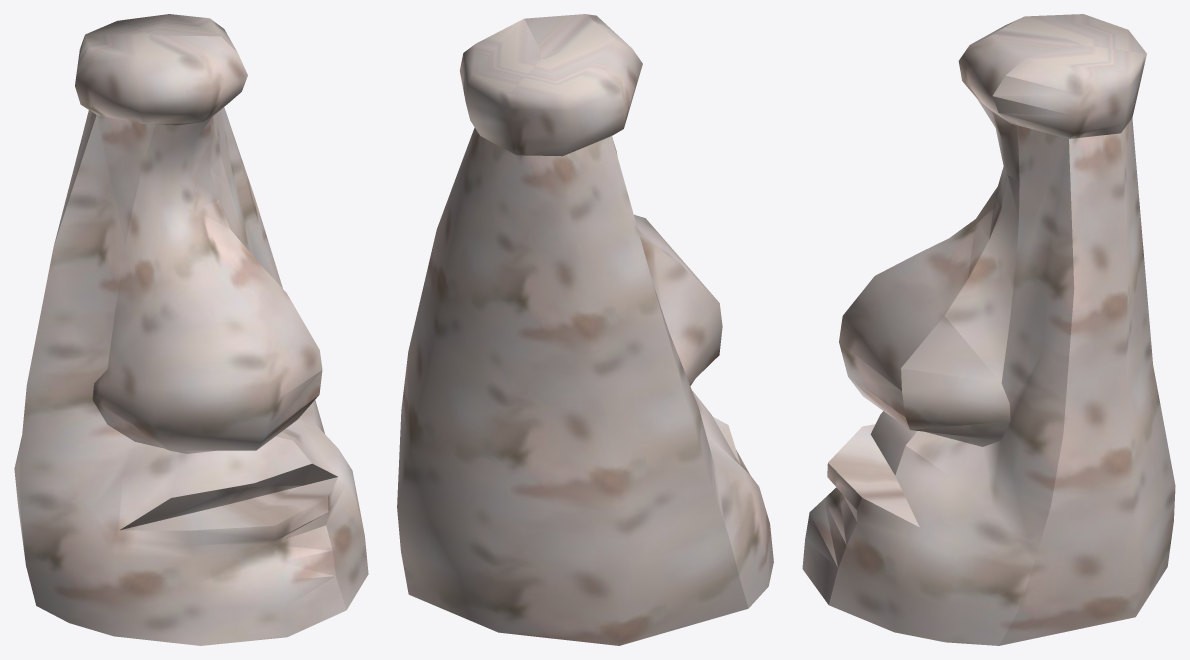
The model's file is Kahuna.fbx.
3 renders of one model, left to right at view 1: azimuth 30°, elevation 25°; view 2: azimuth 150°, elevation 25°; view 3: azimuth 270°, elevation 25°, orthographic. The views are drawn at different scales.
Parts seen in each view (by area): view 1: Kahuna; view 2: Kahuna; view 3: Kahuna.
Part boxes in pixels (x1,y1,x2,y2): Kahuna: (14, 14, 368, 645); Kahuna: (397, 14, 773, 645); Kahuna: (802, 14, 1175, 645).
Size of the model in its own units: 104 by 105 by 165.
1 material, 1 textured.
